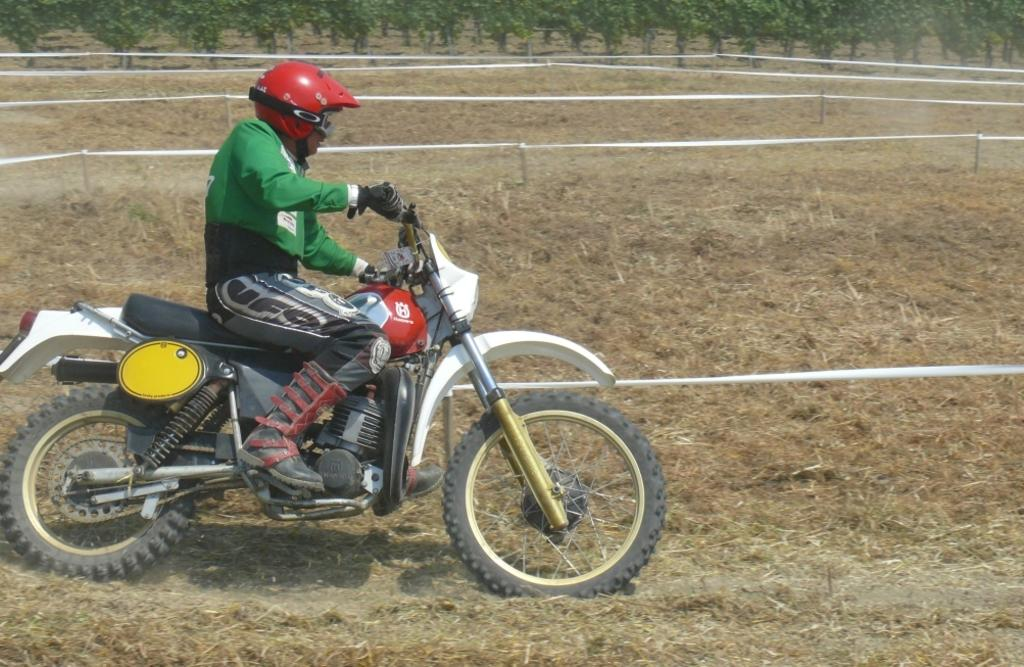helmet: (253, 61, 361, 154)
